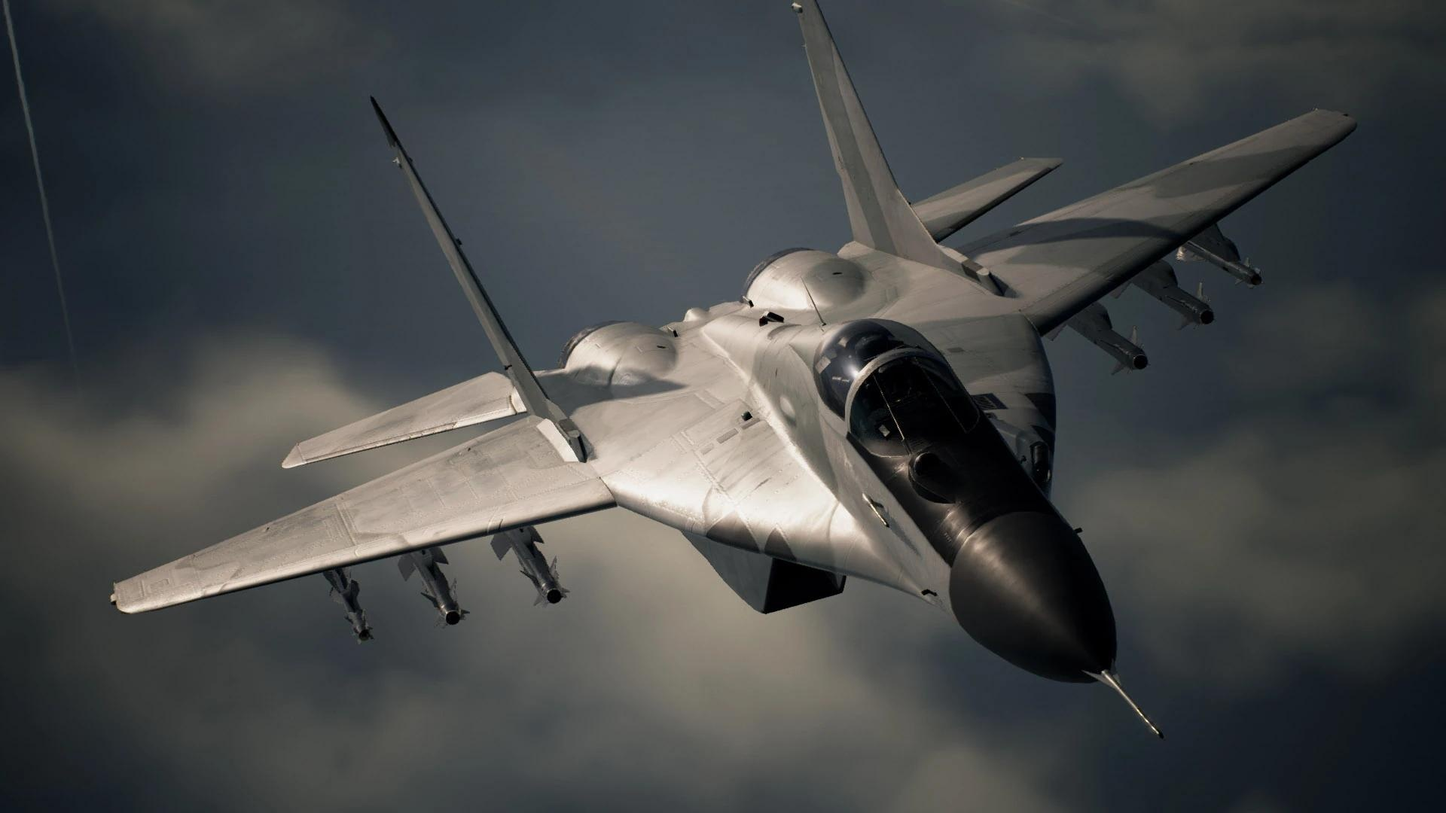aircraft: (73, 4, 1389, 746)
